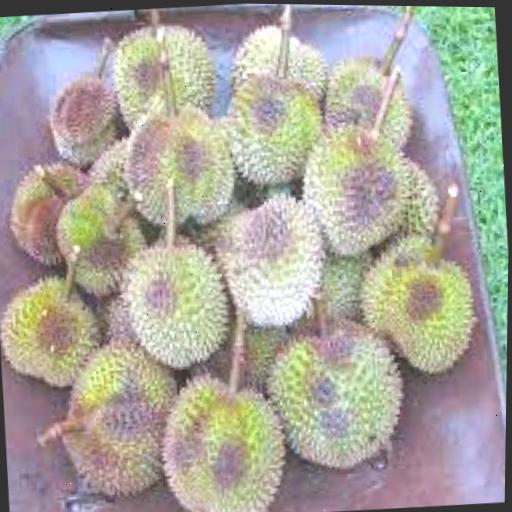rot: (129, 324, 308, 512), (101, 187, 251, 392), (259, 286, 416, 480), (103, 74, 271, 241), (359, 206, 499, 387), (48, 339, 180, 512), (302, 115, 437, 281), (211, 190, 335, 346), (202, 63, 342, 194), (94, 3, 227, 134), (314, 24, 434, 152), (0, 267, 115, 400), (25, 48, 133, 179), (0, 148, 99, 272)
